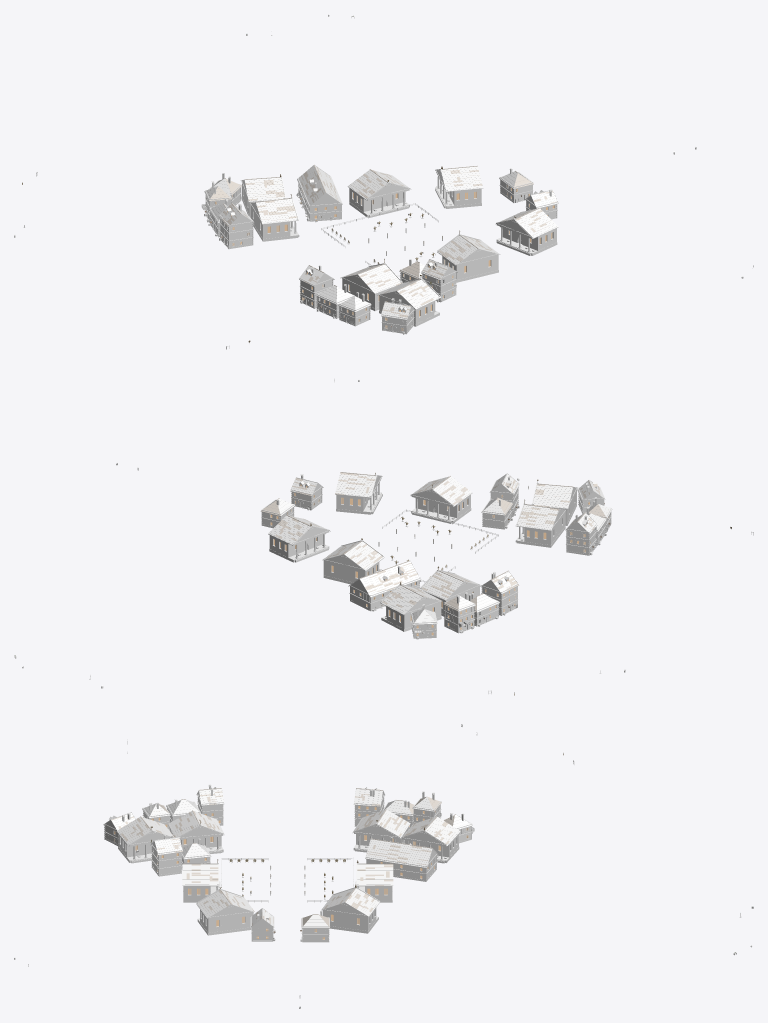
The model's file is bld_clases.glb.
3 views of the same model, one above another, from view 1: azimuth 30°, elevation 25°; view 2: azimuth 150°, elevation 25°; view 3: azimuth 270°, elevation 25° (orthographic). The views are drawn at different scales.
Parts seen in each view (by area): view 1: SalonClase_02_Body, SalonClase_07_Body, SalonClase_01_Body, CasaReposicion_Roof, SalonClase_04_Body, CLA_Casa_08_Body, SalonClase_08_Body, CasaReposicion_Body, SalonClase_08_Roof, SalonClase_04_Roof, SalonClase_06_Roof, SalonClase_05_Roof (+8 smaller); view 2: SalonClase_01_Body, SalonClase_08_Body, CasaReposicion_Roof, SalonClase_02_Body, SalonClase_03_Body, SalonClase_06_Body, SalonClase_07_Body, SalonClase_07_Roof, SalonClase_03_Roof, SalonClase_05_Roof, SalonClase_02_Roof, SalonClase_04_Roof (+7 smaller); view 3: CasaReposicion_Roof, SalonClase_07_Body, SalonClase_08_Body, CasaReposicion_Body, SalonClase_05_Body, SalonClase_01_Roof, SalonClase_02_Roof, SalonClase_08_Roof, SalonClase_07_Roof, SalonClase_06_Body, SalonClase_04_Roof, SalonClase_06_Roof (+9 smaller).
Part boxes in pixels (left/top/right/bottom): SalonClase_02_Body: left=349, top=176, right=410, bottom=217; SalonClase_07_Body: left=496, top=214, right=557, bottom=255; SalonClase_01_Body: left=437, top=230, right=498, bottom=282; CasaReposicion_Roof: left=297, top=164, right=342, bottom=207; SalonClase_04_Body: left=250, top=194, right=299, bottom=241; CLA_Casa_08_Body: left=219, top=211, right=253, bottom=249; SalonClase_08_Body: left=435, top=166, right=481, bottom=208; CasaReposicion_Body: left=297, top=176, right=342, bottom=221; SalonClase_08_Roof: left=435, top=165, right=483, bottom=191; SalonClase_04_Roof: left=249, top=198, right=298, bottom=224; SalonClase_06_Roof: left=240, top=177, right=285, bottom=202; SalonClase_05_Roof: left=377, top=279, right=441, bottom=309; SalonClase_01_Body: left=411, top=483, right=471, bottom=523; SalonClase_08_Body: left=269, top=520, right=329, bottom=562; CasaReposicion_Roof: left=348, top=560, right=421, bottom=597; SalonClase_02_Body: left=323, top=538, right=383, bottom=584; SalonClase_03_Body: left=515, top=499, right=565, bottom=547; SalonClase_06_Body: left=381, top=582, right=441, bottom=631; SalonClase_07_Body: left=336, top=473, right=382, bottom=514; SalonClase_07_Roof: left=335, top=472, right=382, bottom=497; SalonClase_03_Roof: left=516, top=504, right=566, bottom=530; SalonClase_05_Roof: left=533, top=483, right=577, bottom=509; SalonClase_02_Roof: left=322, top=541, right=384, bottom=570; SalonClase_04_Roof: left=420, top=570, right=481, bottom=600; CasaReposicion_Roof: left=365, top=837, right=438, bottom=868; SalonClase_07_Body: left=197, top=887, right=253, bottom=935; SalonClase_08_Body: left=322, top=884, right=379, bottom=933; CasaReposicion_Body: left=366, top=849, right=437, bottom=881; SalonClase_05_Body: left=118, top=826, right=170, bottom=863; SalonClase_01_Roof: left=182, top=863, right=219, bottom=885; SalonClase_02_Roof: left=356, top=863, right=393, bottom=885; SalonClase_08_Roof: left=321, top=888, right=379, bottom=916; SalonClase_07_Roof: left=196, top=890, right=254, bottom=918; SalonClase_06_Body: left=401, top=825, right=459, bottom=863; SalonClase_04_Roof: left=352, top=809, right=410, bottom=838; SalonClase_06_Roof: left=401, top=816, right=460, bottom=845.
Size of what is drawn, in the model's own units: 256 by 15.81 by 280.
Materials: 24 (20 with a texture image).
